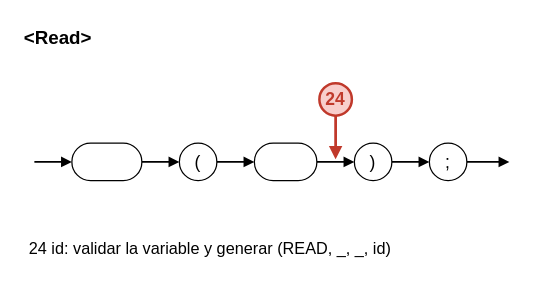
The diagram is 540 pixels wide and 289 high, and some of its shapes have lost their labels. The shapes that lost their labels are listed below. From the top down, each one's centre as x and y in pixels, then its label:
the point at 106,161: read
the point at 285,161: id
